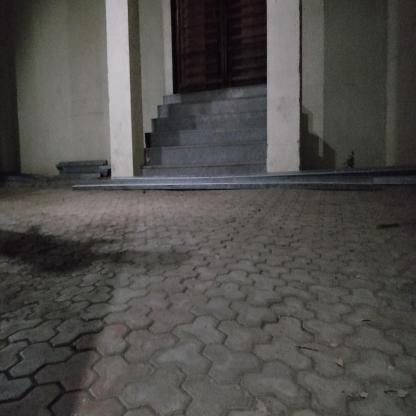stairs: (163, 83, 268, 181)
